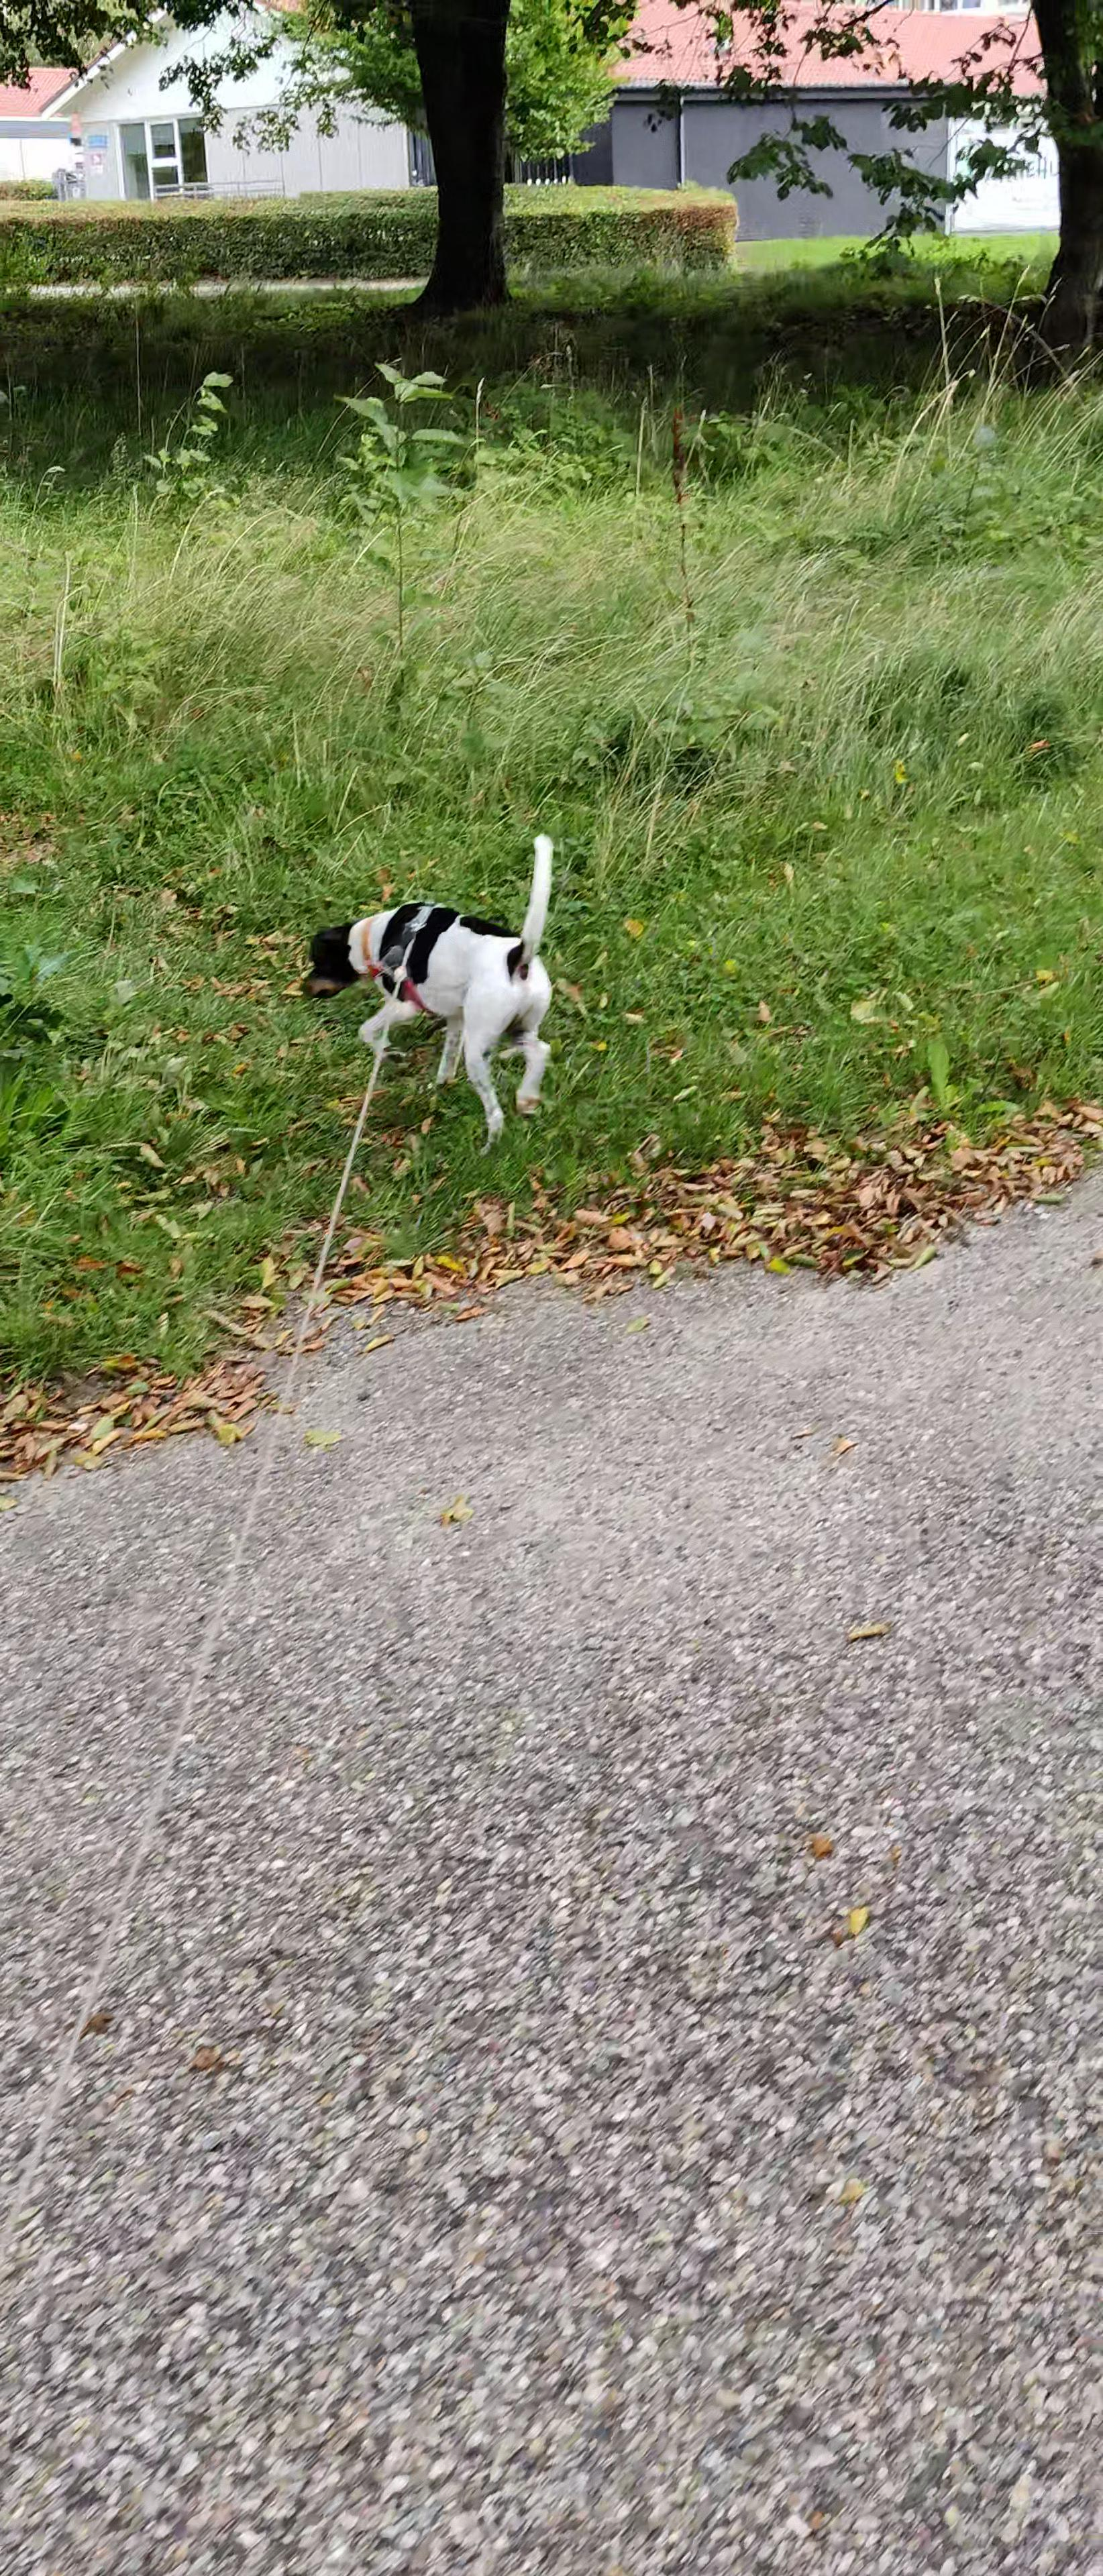Dog: (291, 815, 567, 1166)
